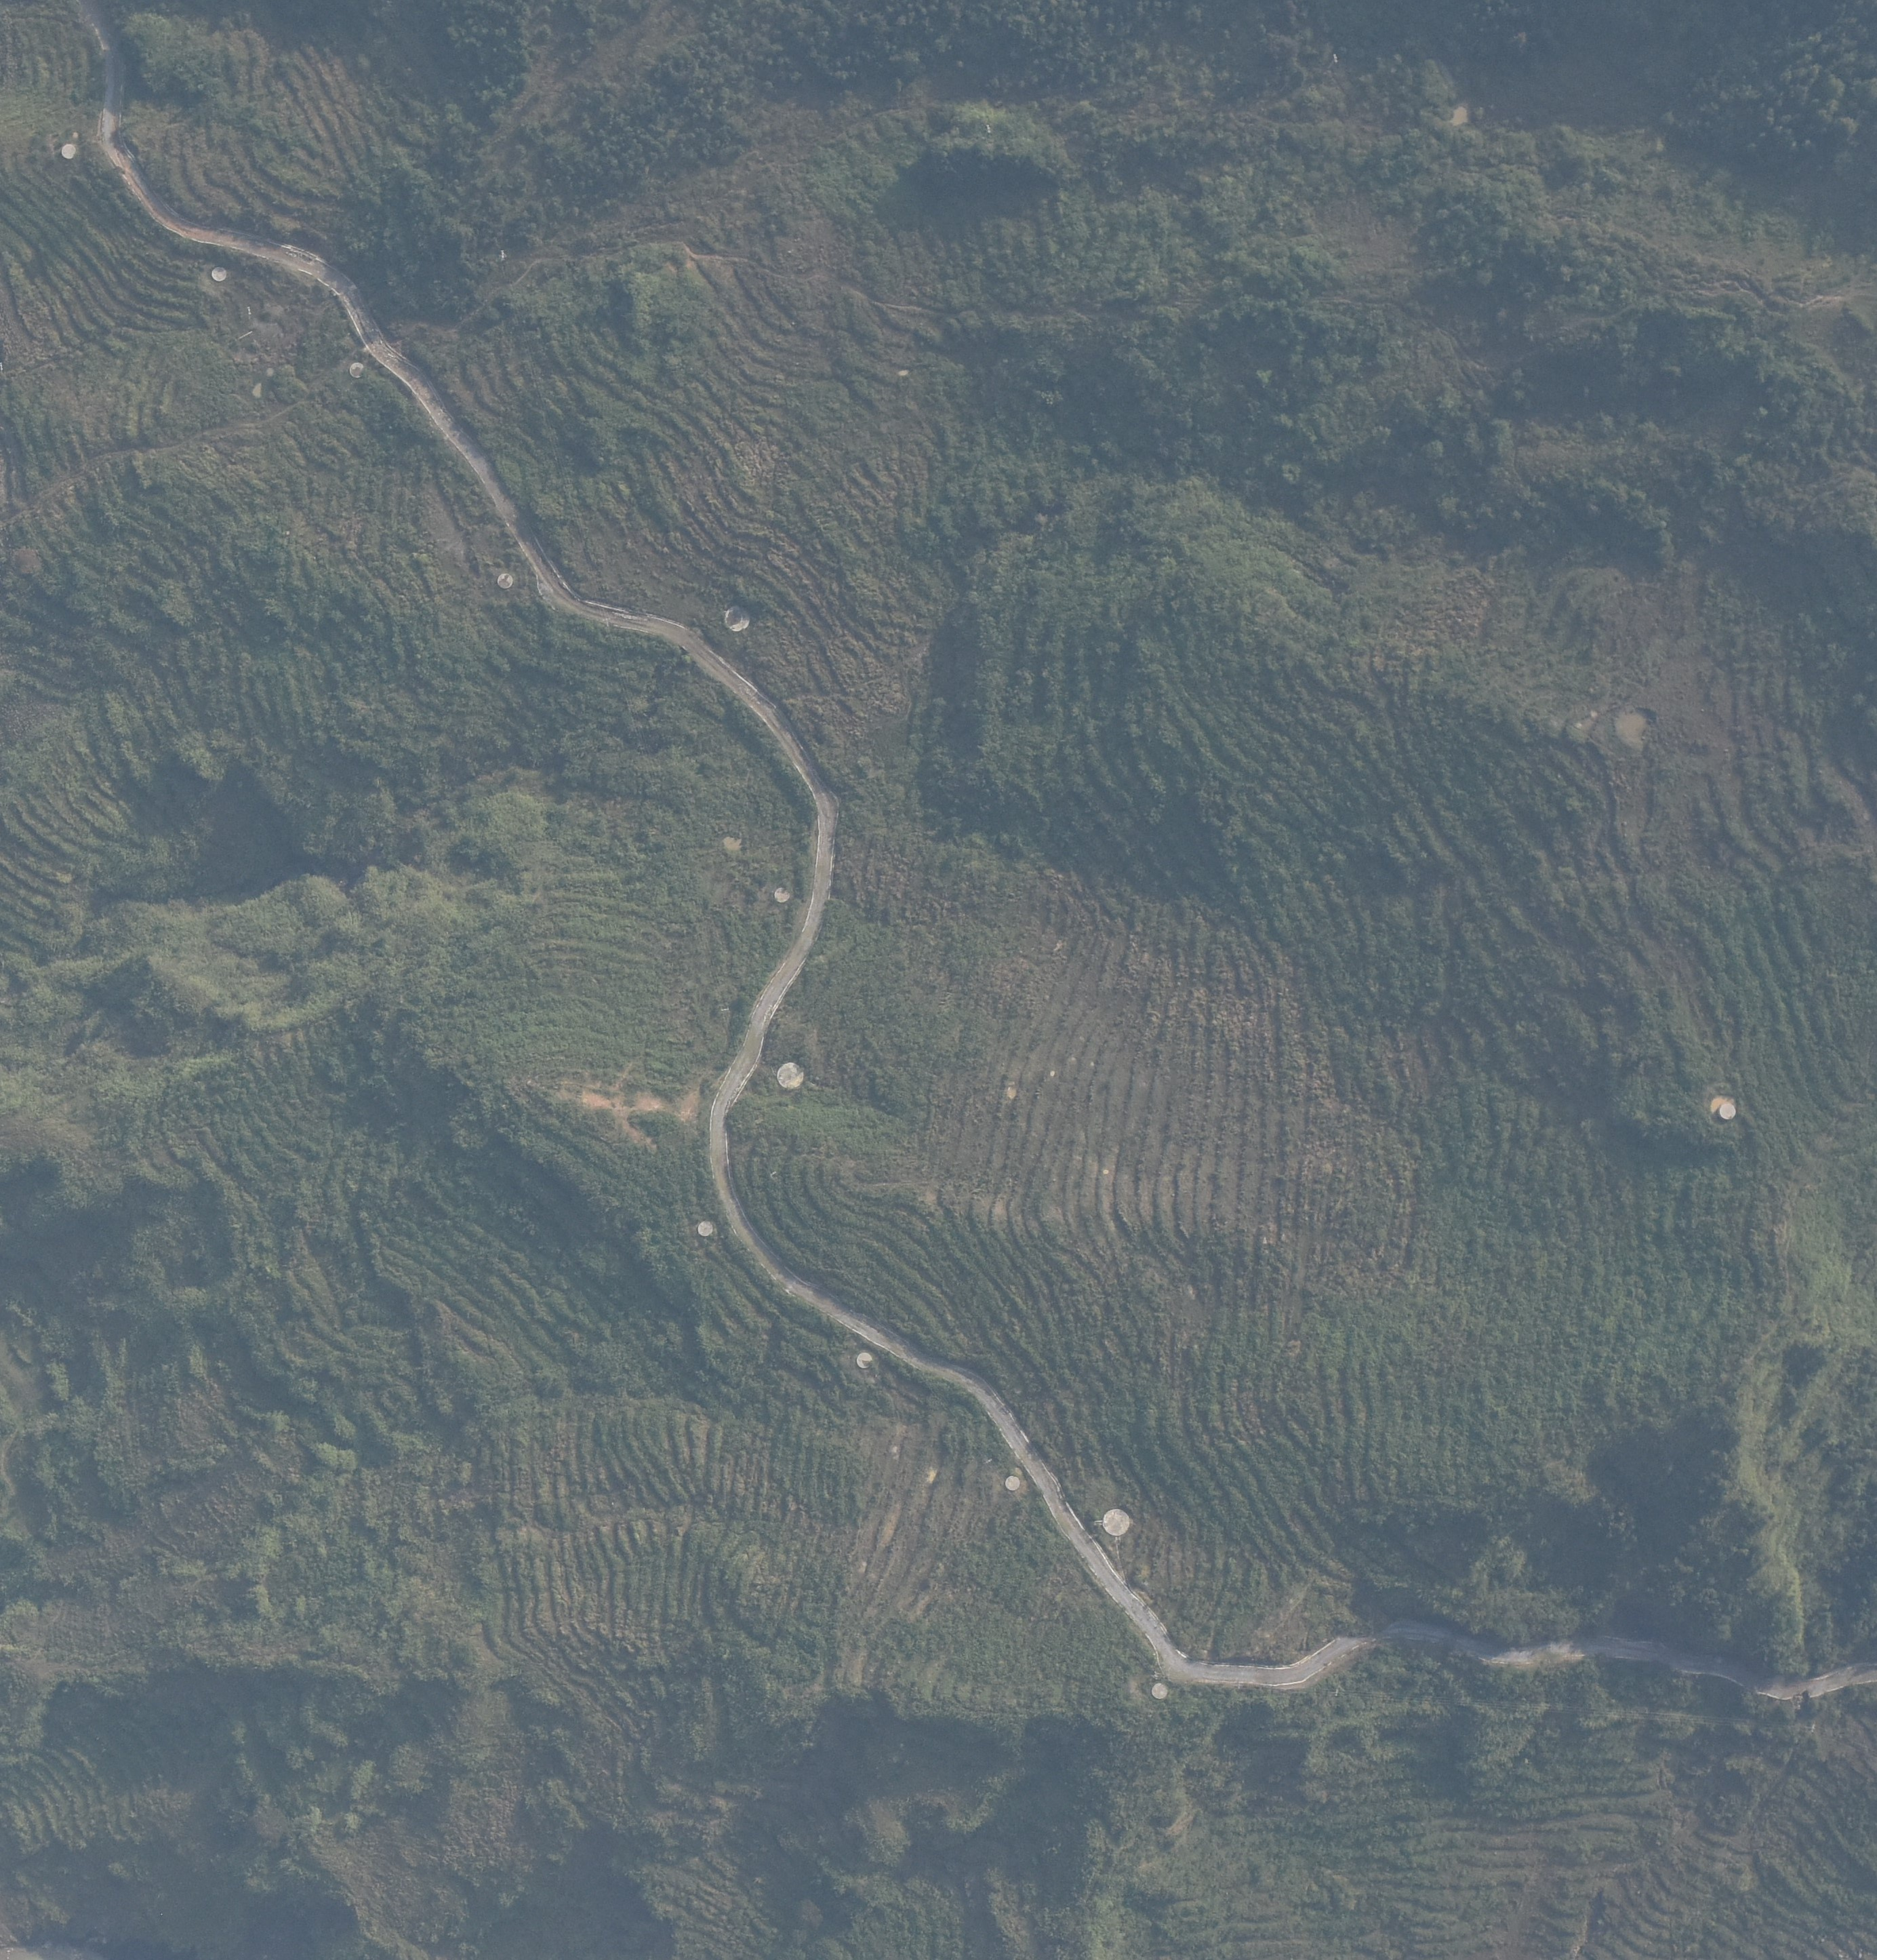well: (721, 605, 757, 637), (1102, 1505, 1130, 1535), (777, 1062, 805, 1090), (58, 142, 77, 166), (497, 570, 518, 591), (348, 360, 369, 380), (208, 262, 226, 285), (696, 1216, 714, 1237), (1718, 1102, 1737, 1120), (1002, 1475, 1022, 1491), (1148, 1683, 1167, 1699), (771, 885, 787, 903), (855, 1353, 875, 1367)
